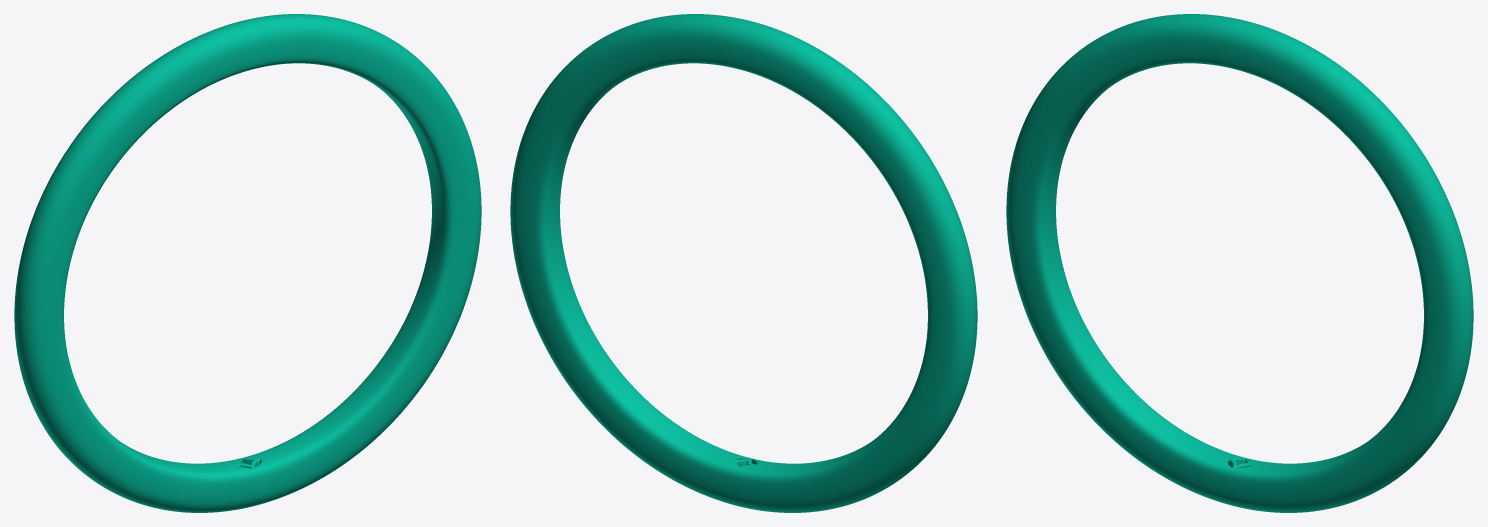
File: BE299_RENDER.glb
3 renders of one model, left to right at view 1: azimuth 30°, elevation 25°; view 2: azimuth 150°, elevation 25°; view 3: azimuth 330°, elevation 25°, orthographic.
Parts seen in each view (by area): view 1: Metal03; view 2: Metal03; view 3: Metal03.
Part boxes in pixels (bbox=[...]): Metal03: bbox=[14, 14, 481, 512]; Metal03: bbox=[510, 14, 977, 512]; Metal03: bbox=[1006, 14, 1473, 512].
Bounding box in the file's own units: 20.1 × 20.1 × 1.5.
